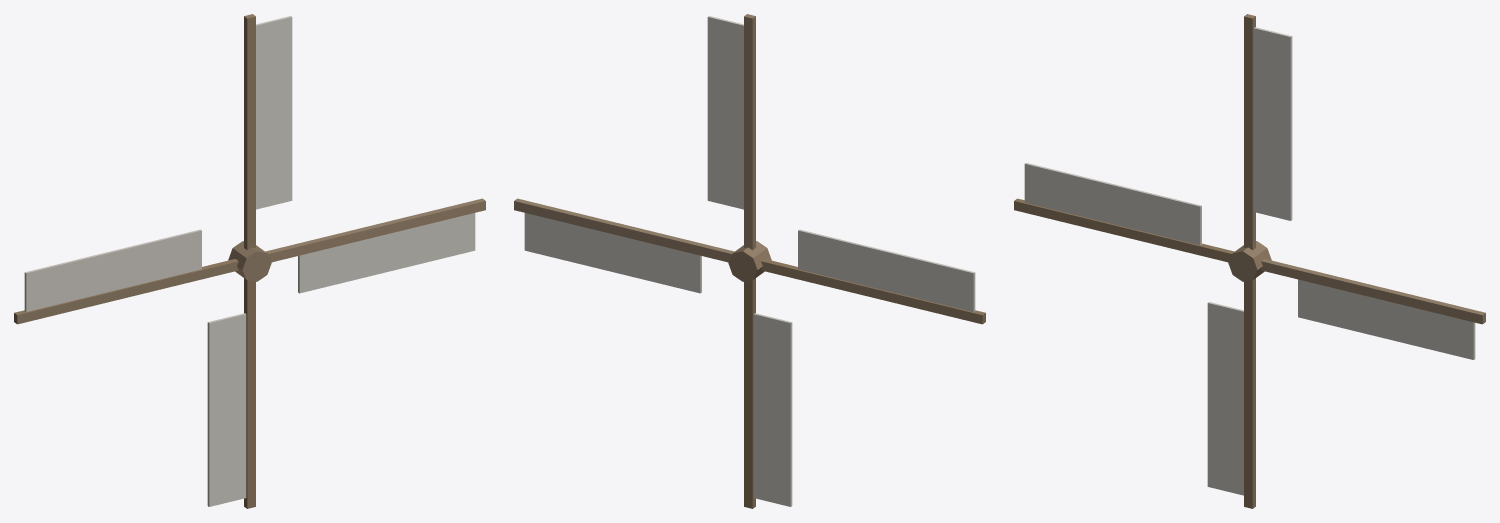
File: windmill_blades.glb
The picture shows the model from 3 angles, left to right: view 1: azimuth 30°, elevation 25°; view 2: azimuth 150°, elevation 25°; view 3: azimuth 330°, elevation 25°; orthographic projection.
Visible parts, largest first — view 1: windmill_blades2; view 2: windmill_blades2; view 3: windmill_blades2.
Boxes of the visible parts, x1,y1,x2,y2 form: windmill_blades2: (14,14,485,508); windmill_blades2: (514,14,985,508); windmill_blades2: (1014,14,1485,508).
Size of the model in its own units: 9.6 by 9.6 by 0.5.
